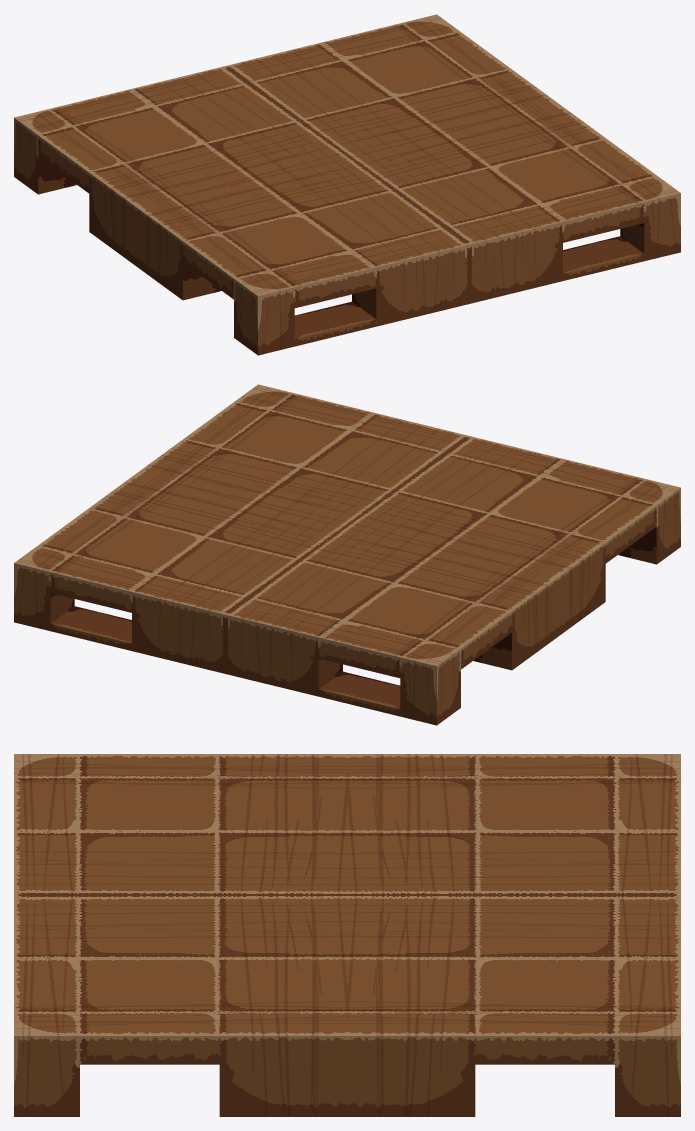
File: Pallet Alone model.fbx
3 views of the same model, one above another, from view 1: azimuth 30°, elevation 25°; view 2: azimuth 150°, elevation 25°; view 3: azimuth 270°, elevation 25° (orthographic). The views are drawn at different scales.
Visible parts, largest first — view 1: Box003; view 2: Box003; view 3: Box003.
Part boxes in pixels (bbox=[...]): Box003: bbox=[14, 14, 680, 355]; Box003: bbox=[14, 384, 680, 725]; Box003: bbox=[14, 754, 680, 1116].
Bounding box in the file's own units: 88.58 × 88.58 × 11.87.
Materials: 1 (1 with a texture image).
